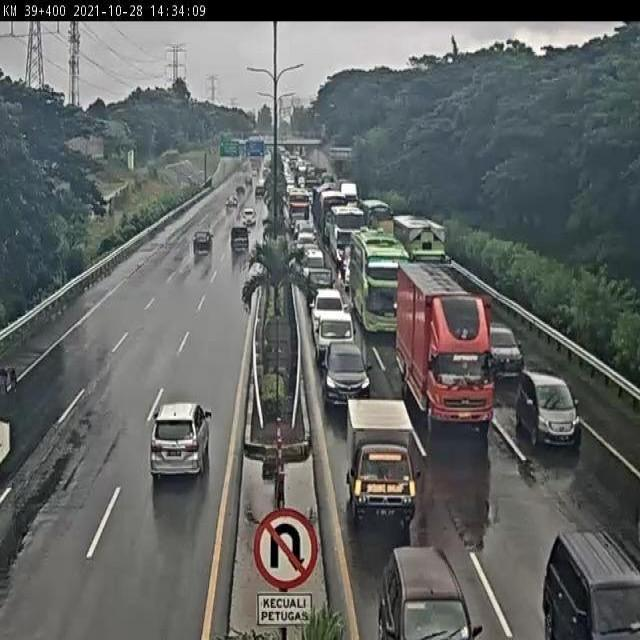big bus: (350, 229, 411, 335), (330, 208, 366, 265), (286, 190, 312, 230)
big truck: (391, 263, 487, 421), (392, 216, 453, 292), (319, 194, 345, 238)
car: (539, 526, 637, 640), (373, 548, 481, 640), (341, 396, 414, 517), (513, 362, 577, 442), (149, 404, 210, 477), (321, 340, 372, 404), (482, 318, 520, 382), (314, 314, 357, 366), (309, 292, 348, 331), (303, 269, 336, 304), (228, 225, 250, 255), (194, 231, 215, 256), (303, 250, 328, 270), (342, 252, 357, 285), (297, 234, 317, 258), (293, 218, 316, 238)
